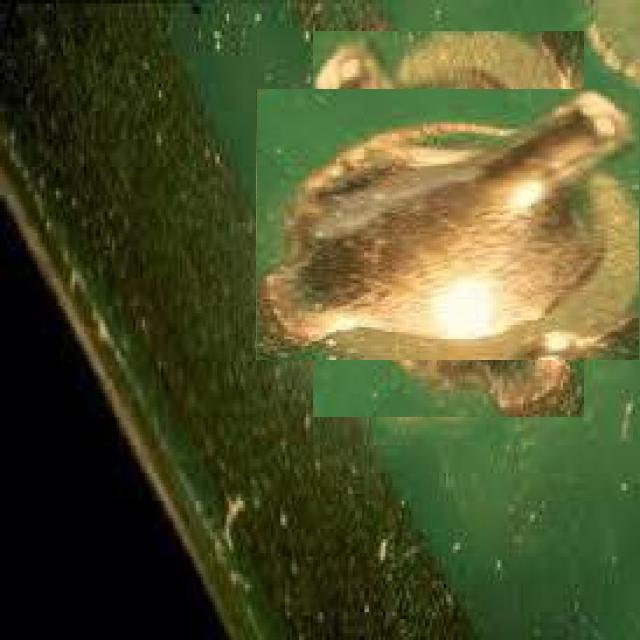slug: (284, 60, 613, 389)
